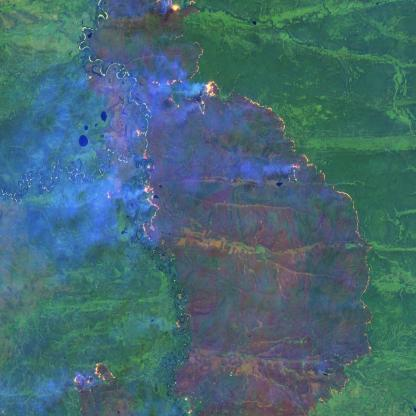fire: (52, 0, 383, 416)
